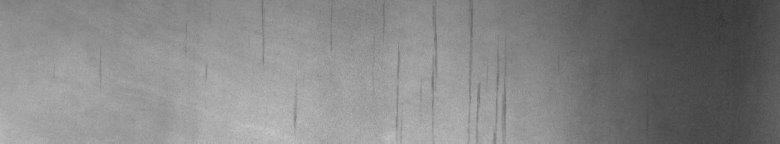ka: (396, 4, 509, 136)
